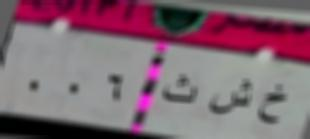0: (56, 72, 89, 103), (22, 73, 48, 101)
6: (97, 68, 132, 107)
khaa: (257, 80, 292, 128)
sheen: (202, 75, 254, 119)
thaa: (163, 75, 200, 107)
